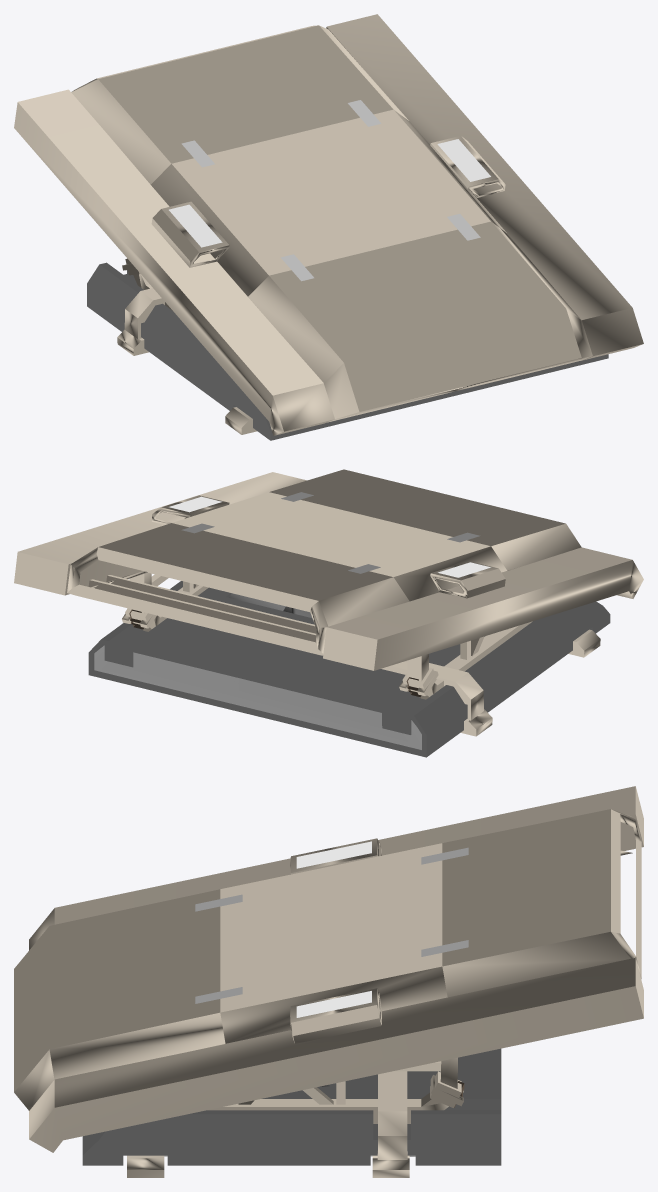
The model's file is barrier_a_01x025x01.glb.
3 views of the same model, one above another, from view 1: azimuth 30°, elevation 25°; view 2: azimuth 150°, elevation 25°; view 3: azimuth 270°, elevation 25° (orthographic). The views are drawn at different scales.
Bounding box in the file's own units: 2 × 0.9816 × 2.66.
